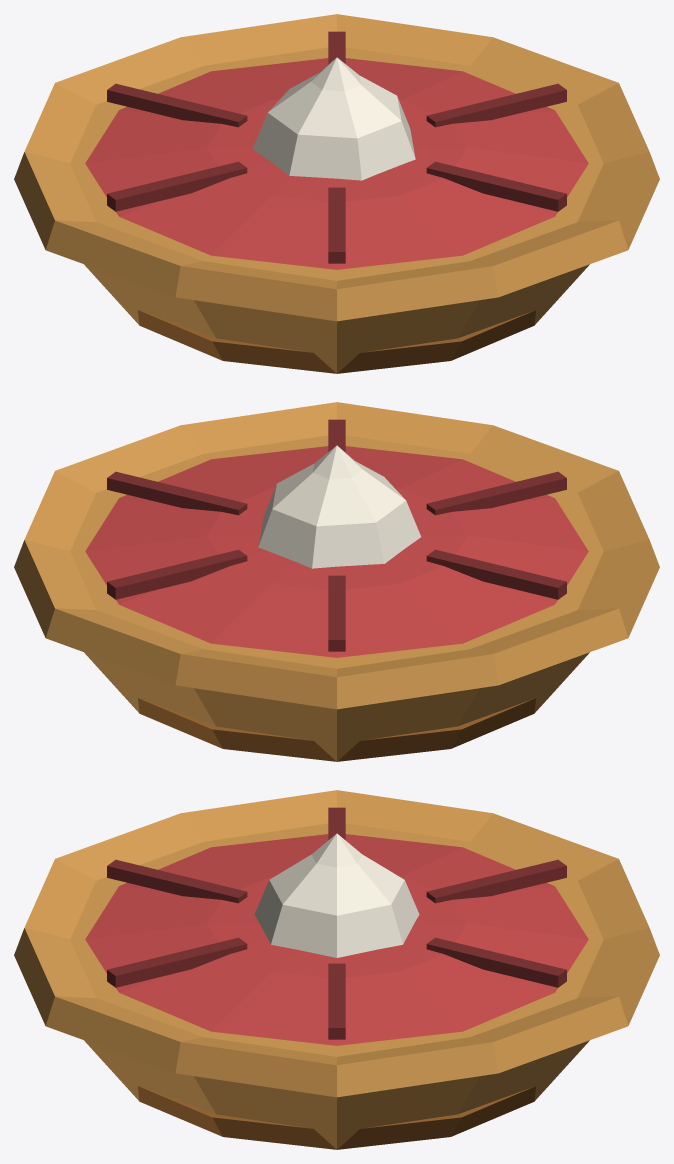
Rendered from pie.glb.
3 renders of one model, top to bottom at view 1: azimuth 30°, elevation 25°; view 2: azimuth 150°, elevation 25°; view 3: azimuth 270°, elevation 25°, orthographic.
Visible parts, largest first — view 1: pie; view 2: pie; view 3: pie.
Boxes of the visible parts, left/top/right/bottom form: pie: left=14, top=14, right=659, bottom=373; pie: left=14, top=402, right=659, bottom=761; pie: left=14, top=790, right=659, bottom=1149.
Size of the model in its own units: 0.31 by 0.112 by 0.2976.
